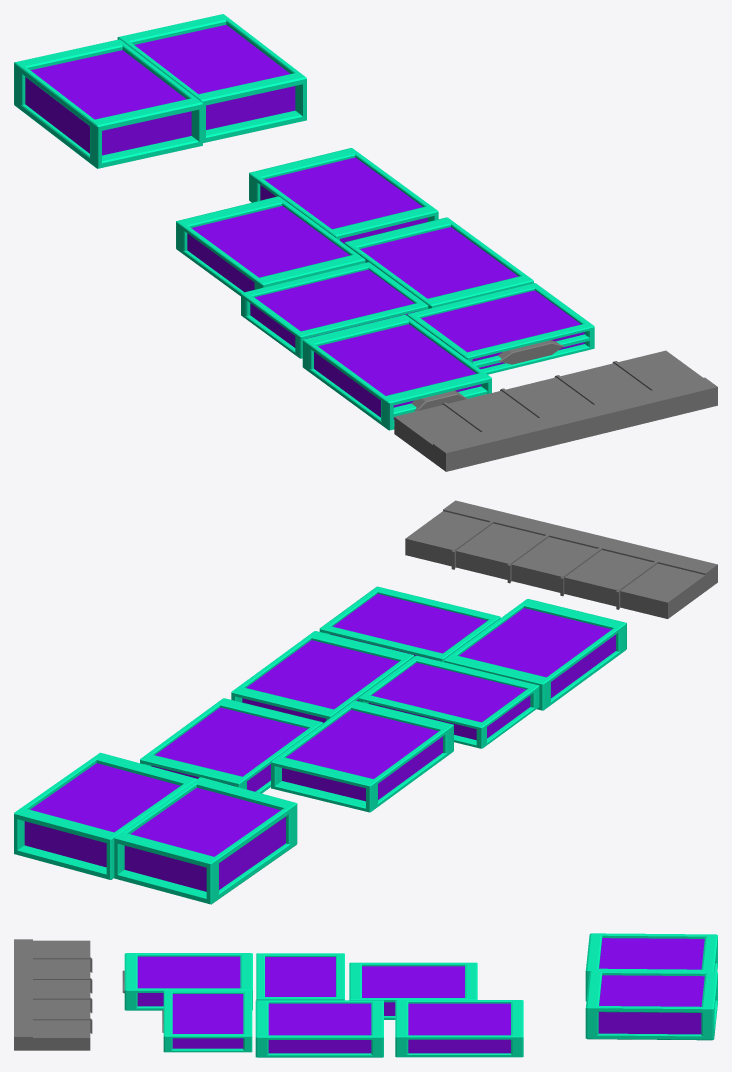
Rendered from Player Train.obj.
3 views of the same model, one above another, from view 1: azimuth 30°, elevation 25°; view 2: azimuth 150°, elevation 25°; view 3: azimuth 270°, elevation 25° (orthographic). The views are drawn at different scales.
Parts seen in each view (by area): view 1: Player_Train_low low; view 2: Player_Train_low low; view 3: Player_Train_low low.
Boxes of the visible parts, x1,y1,x2,y2 form: Player_Train_low low: [14, 14, 717, 471]; Player_Train_low low: [14, 500, 717, 904]; Player_Train_low low: [14, 933, 717, 1057].
Bounding box in the file's own units: 16.63 × 3.94 × 50.74.
